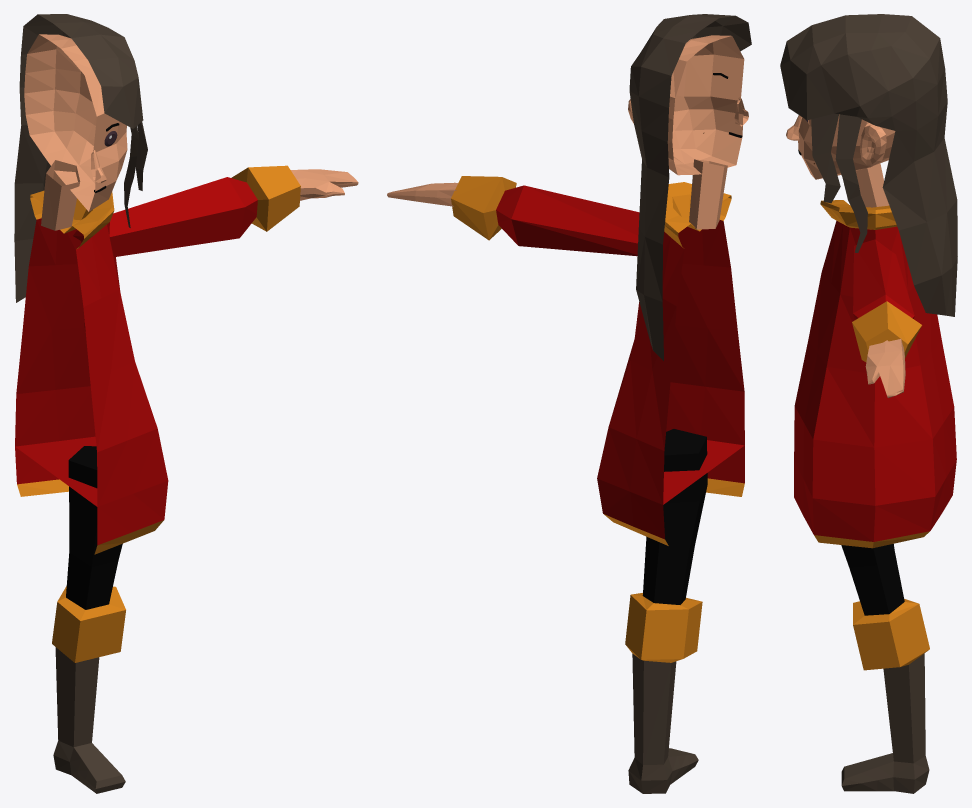
The model's file is inaara.dae.
3 views of the same model, side by side, from view 1: azimuth 30°, elevation 25°; view 2: azimuth 150°, elevation 25°; view 3: azimuth 270°, elevation 25° (orthographic).
Parts seen in each view (by area): view 1: Body, Legs, Arms, Head, Hair, Neck; view 2: Body, Legs, Hair, Arms, Head, Neck; view 3: Body, Hair, Legs, Arms, Head, Neck, Ears.
Boxes of the visible parts, left/top/right/bottom form: Body: left=15, top=190, right=168, bottom=554; Legs: left=52, top=446, right=125, bottom=793; Arms: left=73, top=165, right=358, bottom=257; Head: left=24, top=34, right=127, bottom=211; Hair: left=14, top=14, right=147, bottom=302; Neck: left=41, top=160, right=80, bottom=230; Body: left=597, top=182, right=744, bottom=545; Legs: left=625, top=429, right=707, bottom=793; Hair: left=629, top=14, right=751, bottom=360; Arms: left=387, top=176, right=639, bottom=256; Head: left=667, top=35, right=744, bottom=175; Neck: left=689, top=159, right=727, bottom=229; Body: left=794, top=200, right=956, bottom=548; Hair: left=780, top=14, right=957, bottom=316; Legs: left=841, top=544, right=929, bottom=793; Arms: left=852, top=239, right=921, bottom=397; Head: left=798, top=114, right=895, bottom=179; Neck: left=855, top=163, right=889, bottom=207; Ears: left=860, top=123, right=886, bottom=164.
Size of the model in its own units: 2.12 by 1.02 by 4.77.
